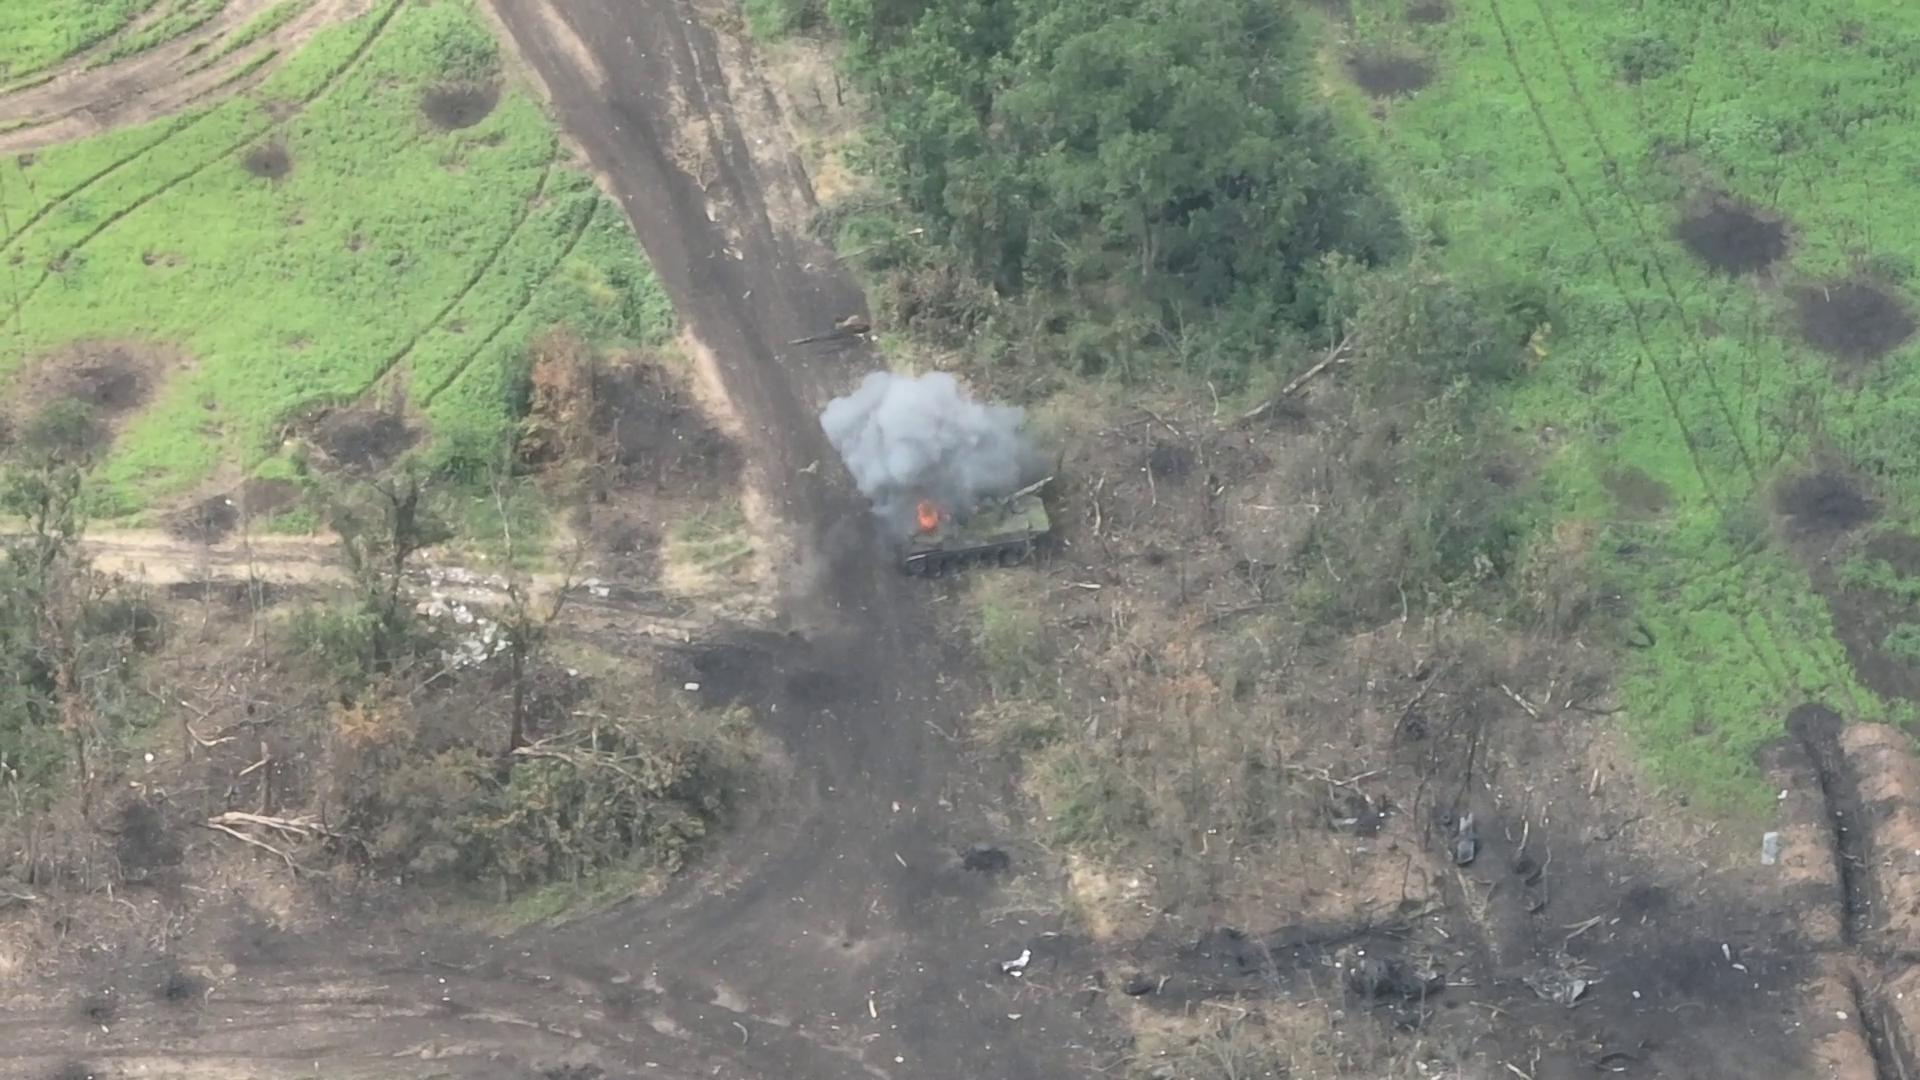tank: (894, 473, 1058, 582)
